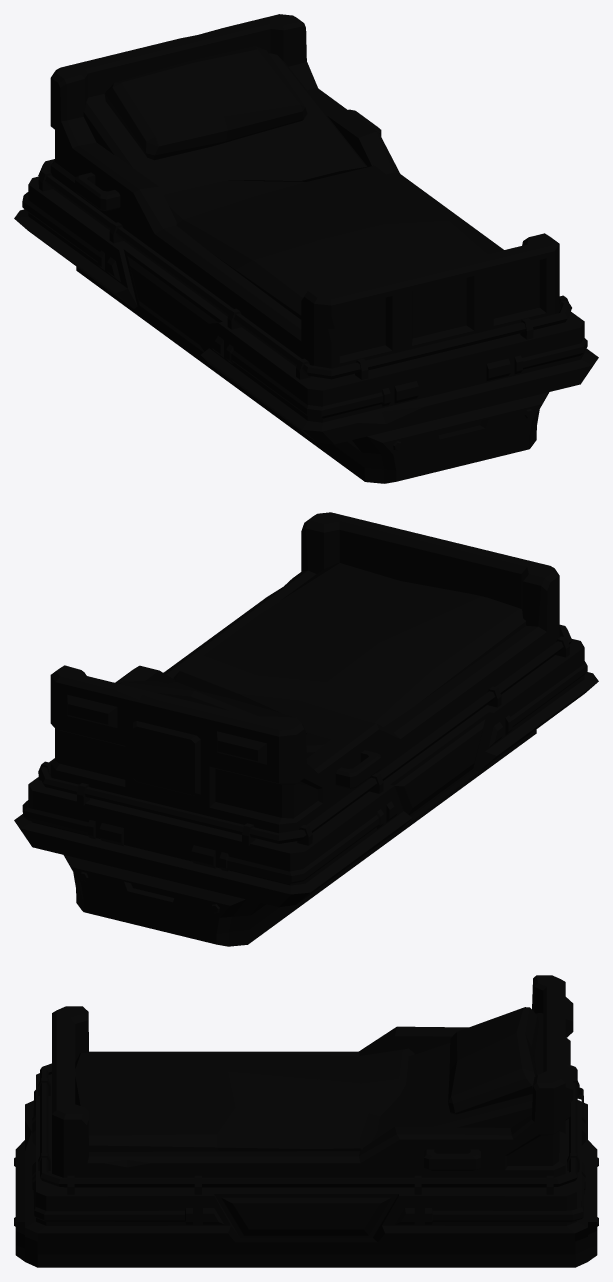
The model's file is cyber_SM_Prop_Hospital_Bed_01.gltf.
3 renders of one model, top to bottom at view 1: azimuth 30°, elevation 25°; view 2: azimuth 150°, elevation 25°; view 3: azimuth 270°, elevation 25°, orthographic. The views are drawn at different scales.
Parts seen in each view (by area): view 1: SM_Prop_Hospital_Bed_01; view 2: SM_Prop_Hospital_Bed_01; view 3: SM_Prop_Hospital_Bed_01.
Part boxes in pixels (<box>): SM_Prop_Hospital_Bed_01: <box>14,14,598,483</box>; SM_Prop_Hospital_Bed_01: <box>14,512,598,946</box>; SM_Prop_Hospital_Bed_01: <box>14,975,598,1267</box>.
Bounding box in the file's own units: 1.56 × 1.08 × 2.87.
Materials: 1 (1 with a texture image).
